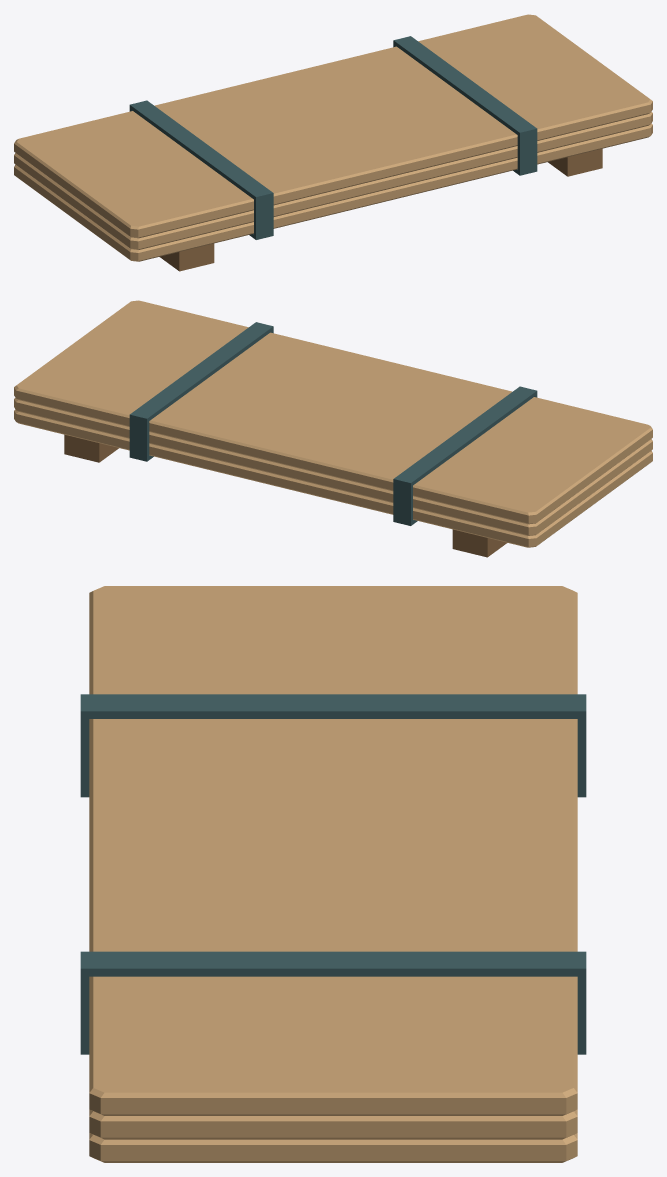
3 renders of one model, top to bottom at view 1: azimuth 30°, elevation 25°; view 2: azimuth 150°, elevation 25°; view 3: azimuth 270°, elevation 25°, orthographic. The views are drawn at different scales.
Parts seen in each view (by area): view 1: WholeSheetLayer_02, WholeSheetLayer_00, WholeSheetLayer_01, ContinuousWrappingBand_01, ContinuousWrappingBand_00, GroundBearer_00, GroundBearer_01; view 2: WholeSheetLayer_02, WholeSheetLayer_00, WholeSheetLayer_01, ContinuousWrappingBand_01, ContinuousWrappingBand_00, GroundBearer_00, GroundBearer_01; view 3: WholeSheetLayer_02, ContinuousWrappingBand_01, ContinuousWrappingBand_00, WholeSheetLayer_00, WholeSheetLayer_01.
Boxes of the visible parts, bbox=[...] form: WholeSheetLayer_02: bbox=[14, 14, 652, 238]; WholeSheetLayer_00: bbox=[14, 123, 652, 261]; WholeSheetLayer_01: bbox=[14, 112, 652, 249]; ContinuousWrappingBand_01: bbox=[393, 36, 537, 175]; ContinuousWrappingBand_00: bbox=[129, 100, 273, 239]; GroundBearer_00: bbox=[159, 243, 214, 271]; GroundBearer_01: bbox=[548, 148, 602, 176]; WholeSheetLayer_02: bbox=[14, 300, 652, 524]; WholeSheetLayer_00: bbox=[14, 409, 652, 547]; WholeSheetLayer_01: bbox=[14, 398, 652, 535]; ContinuousWrappingBand_01: bbox=[129, 322, 273, 461]; ContinuousWrappingBand_00: bbox=[393, 386, 537, 525]; GroundBearer_00: bbox=[452, 529, 507, 557]; GroundBearer_01: bbox=[64, 434, 118, 462]; WholeSheetLayer_02: bbox=[89, 586, 577, 1115]; ContinuousWrappingBand_01: bbox=[80, 951, 586, 1054]; ContinuousWrappingBand_00: bbox=[80, 694, 586, 797]; WholeSheetLayer_00: bbox=[89, 1133, 577, 1162]; WholeSheetLayer_01: bbox=[89, 1109, 577, 1139].
Size of the model in its own units: 2.1 by 0.235 by 0.88.
